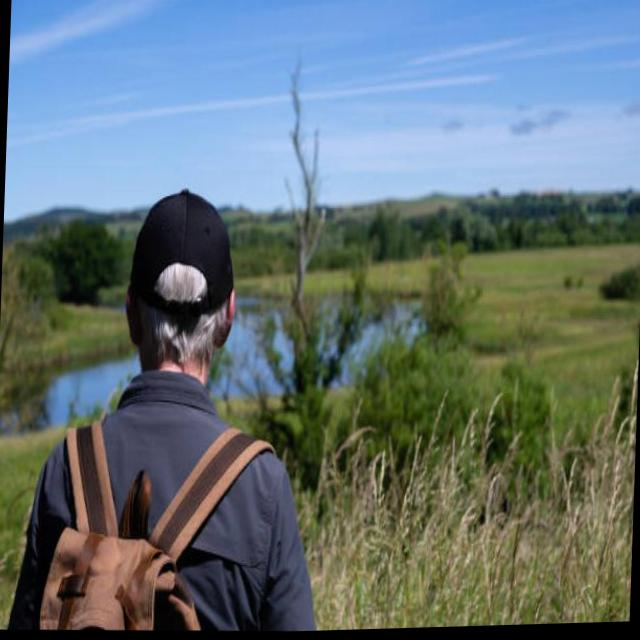no helmet: (102, 175, 249, 418)
